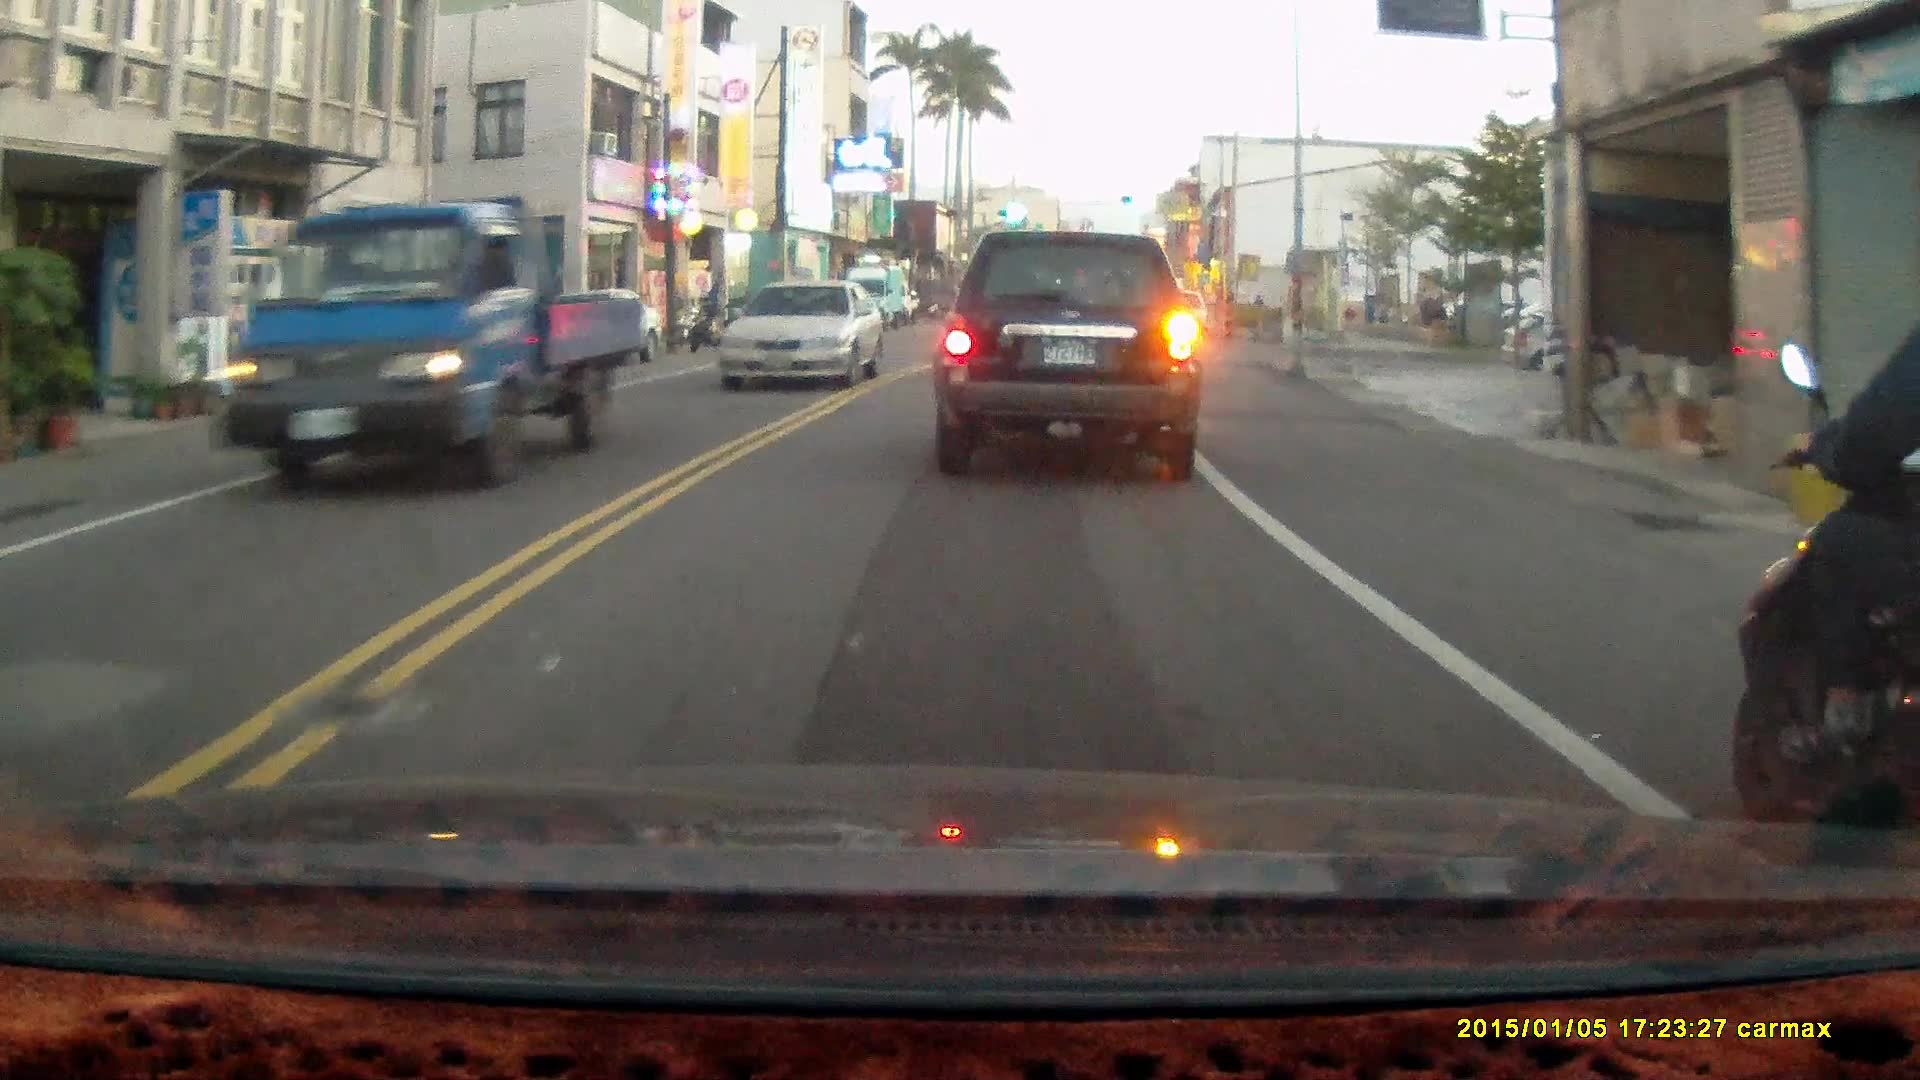pedestrian: (703, 279, 724, 334)
rider: (1738, 252, 1920, 905)
vehicle: (210, 196, 645, 492), (931, 228, 1203, 484), (719, 279, 888, 399), (1499, 302, 1683, 377), (530, 289, 669, 375), (843, 265, 913, 332)
